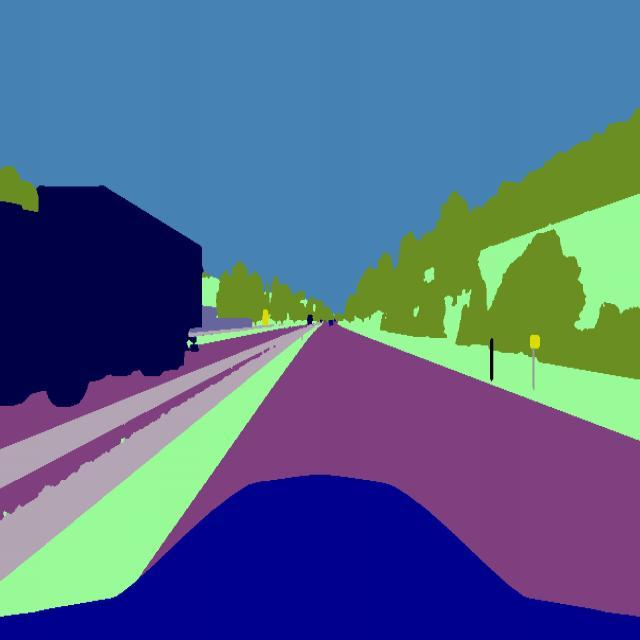safe: (0, 181, 204, 409)
